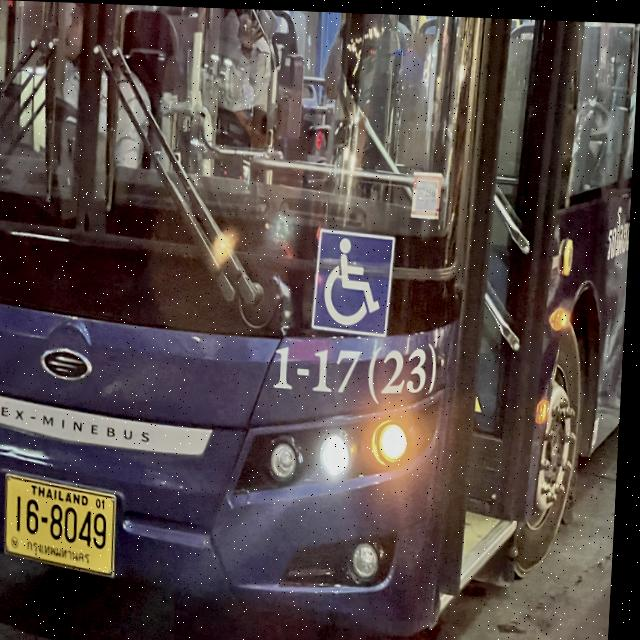Bus Side Number: (254, 336, 460, 396)
TSB-Bus: (0, 0, 640, 640)
